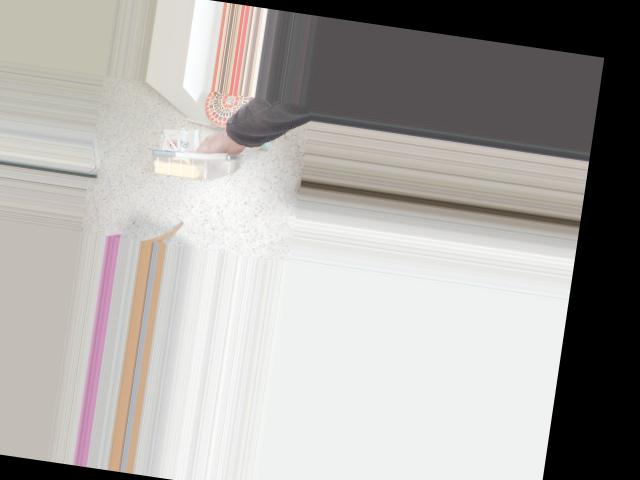cheese: (146, 124, 239, 195)
